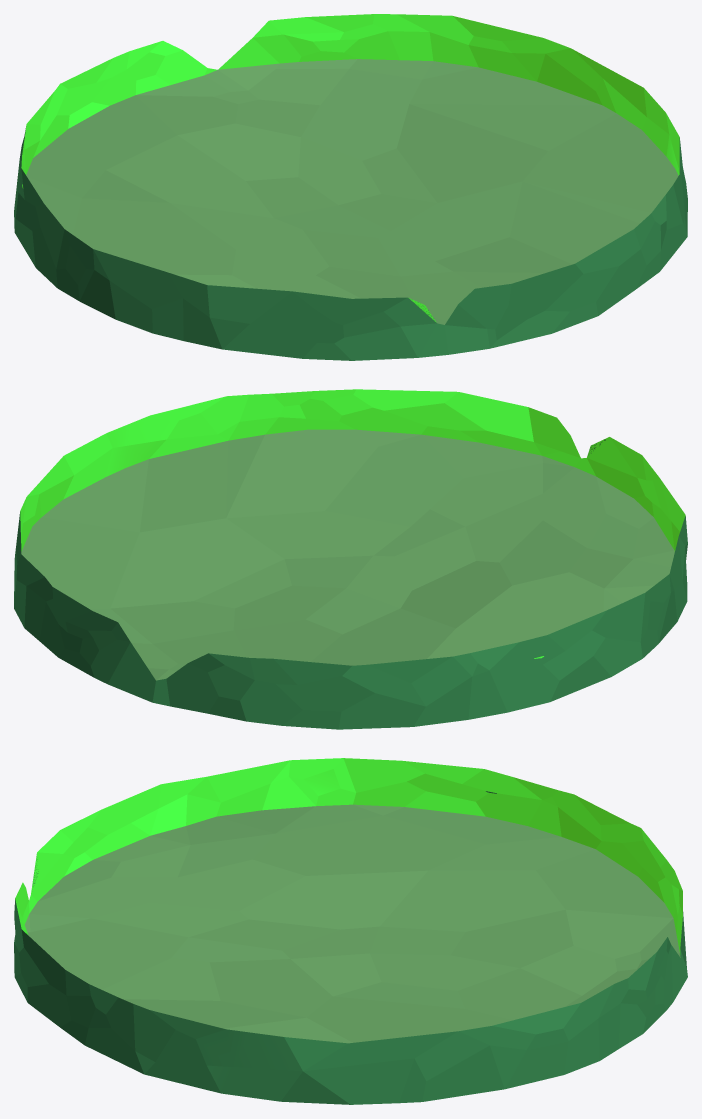
The model's file is plant_lily_pad_medium_D.fbx.
3 views of the same model, one above another, from view 1: azimuth 30°, elevation 25°; view 2: azimuth 150°, elevation 25°; view 3: azimuth 270°, elevation 25° (orthographic).
Visible parts, largest first — view 1: plant_lily_pad_medium_D; view 2: plant_lily_pad_medium_D; view 3: plant_lily_pad_medium_D.
Part boxes in pixels (x1,y1,x2,y2): plant_lily_pad_medium_D: [14, 14, 687, 360]; plant_lily_pad_medium_D: [14, 389, 687, 729]; plant_lily_pad_medium_D: [14, 758, 687, 1104].
Bounding box in the file's own units: 141 × 14.96 × 141.
